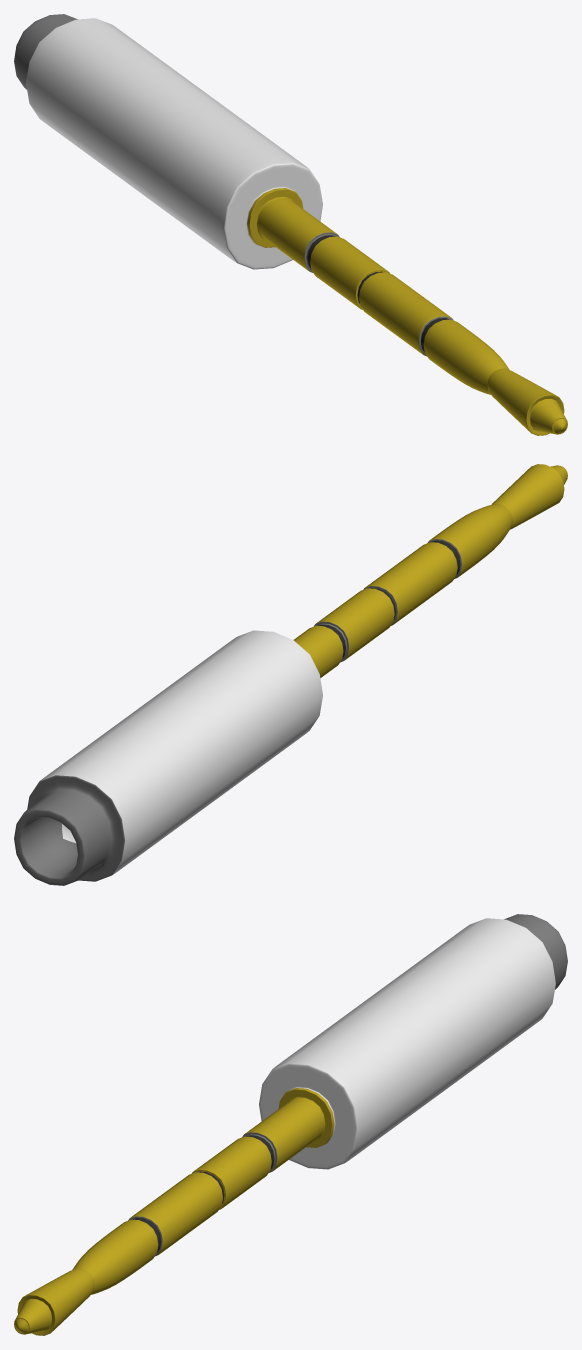
Rendered from plug.fbx.
3 renders of one model, top to bottom at view 1: azimuth 30°, elevation 25°; view 2: azimuth 150°, elevation 25°; view 3: azimuth 330°, elevation 25°, orthographic.
Visible parts, largest first — view 1: pasted__pCube6; view 2: pasted__pCube6; view 3: pasted__pCube6.
Boxes of the visible parts, bbox=[...] form: pasted__pCube6: bbox=[14, 14, 567, 435]; pasted__pCube6: bbox=[14, 464, 567, 885]; pasted__pCube6: bbox=[14, 914, 567, 1335].
Size of the model in its own units: 0.3586 by 0.3586 by 3.2.
